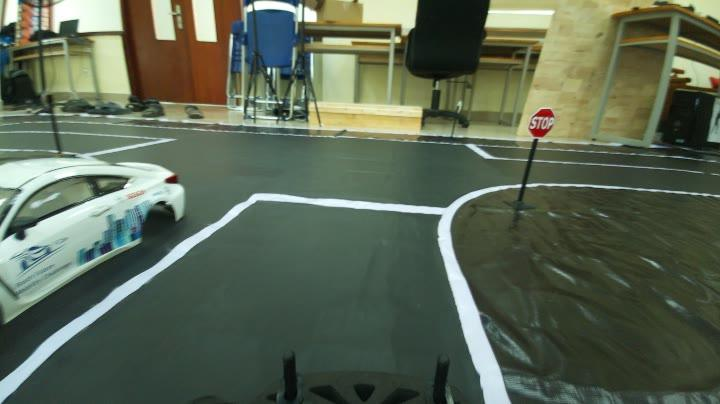car: (1, 144, 185, 278)
stop: (524, 108, 562, 144)
